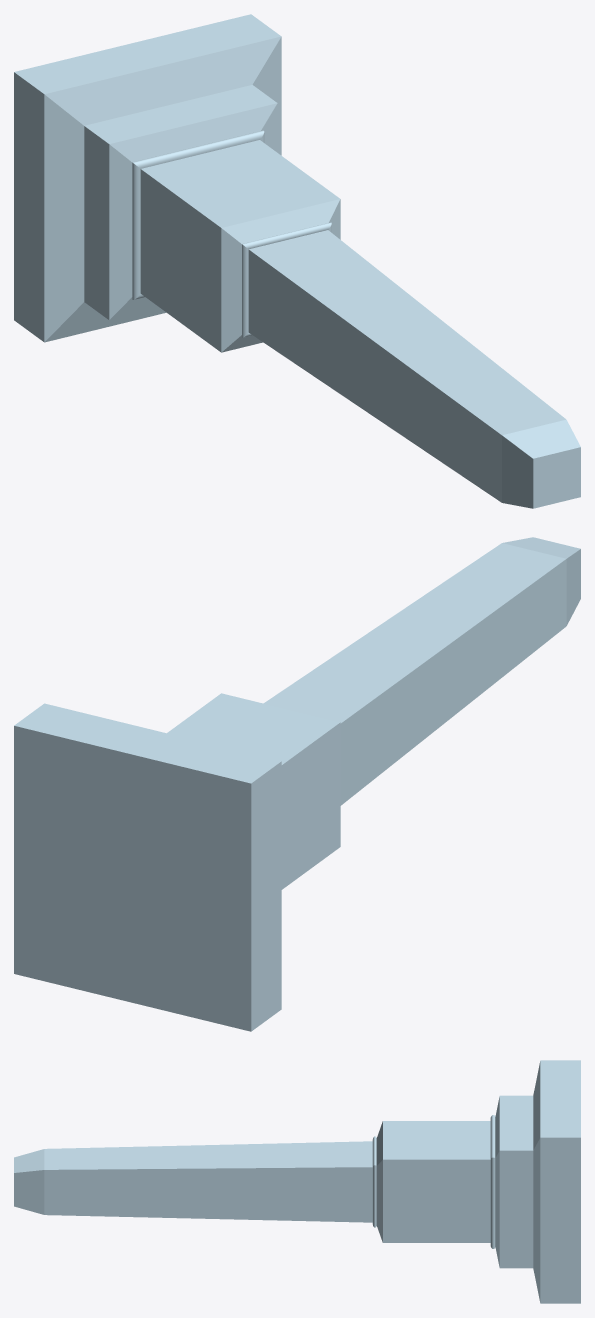
3 views of the same model, one above another, from view 1: azimuth 30°, elevation 25°; view 2: azimuth 150°, elevation 25°; view 3: azimuth 270°, elevation 25° (orthographic). The views are drawn at different scales.
Visible parts, largest first — view 1: PA-244-F_LOD0; view 2: PA-244-F_LOD0; view 3: PA-244-F_LOD0.
Boxes of the visible parts, x1,y1,x2,y2 form: PA-244-F_LOD0: (14,14,580,508); PA-244-F_LOD0: (14,537,580,1031); PA-244-F_LOD0: (14,1060,580,1303).
Size of what is drawn, in the model's own units: 77.72 by 77.72 by 241.
